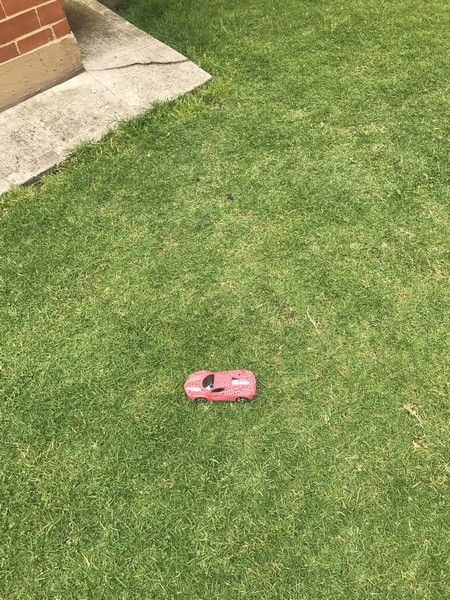RC: (184, 368, 258, 405)
